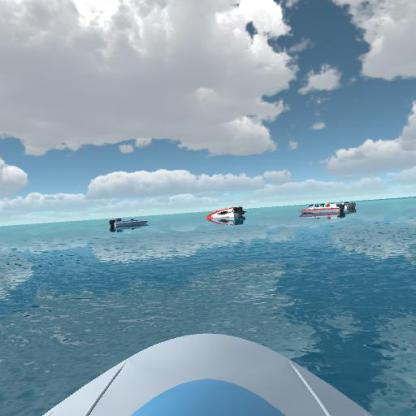usv1: (107, 210, 153, 234), (336, 192, 358, 212)
usv3: (203, 204, 248, 228), (300, 197, 343, 218)
